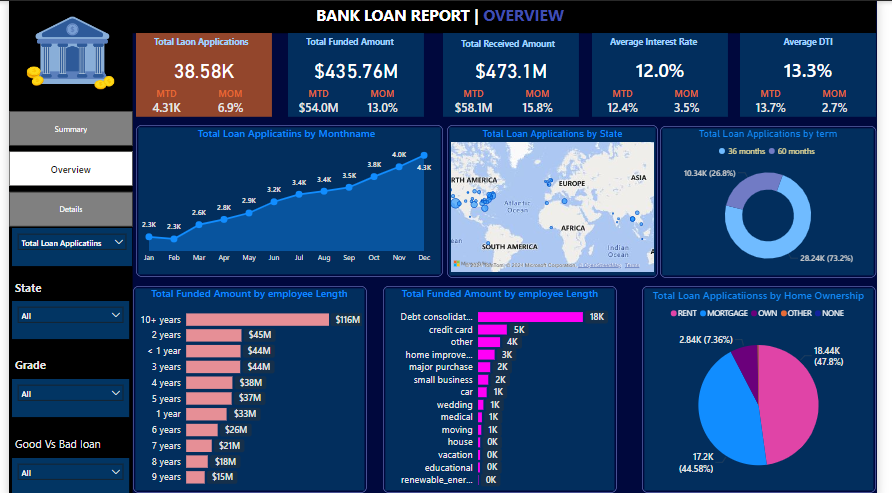

The page's visual inventory and layout, read from the dashboard file:
{"tool":"powerbi","page":{"name":"Overview","canvas":[1480,850],"ordinal":1},"visuals":[{"type":"textbox","box":[0.2,0,1479.8,54.6],"z":0},{"type":"textbox","box":[0,54.6,211,795.4],"z":1000},{"type":"textbox","box":[518.9,0,443.8,54.6],"z":2000},{"type":"group","id":"g1","title":"Group 1","box":[216.8,54.6,232.1,143.4],"z":3000},{"type":"shape","box":[216.8,54.6,232.1,143.4],"z":3000,"group":"g1"},{"type":"shape","box":[476.2,54.6,232.1,143.4],"z":3000,"group":"g2"},{"type":"shape","box":[740.8,54.6,232.1,143.4],"z":3000,"group":"g3"},{"type":"shape","box":[995.1,54.6,232.1,143.4],"z":3000,"group":"g4"},{"type":"shape","box":[1247.7,54.6,232.1,143.4],"z":3000,"group":"g5"},{"type":"group","id":"g2","title":"Group 1","box":[476.2,54.6,232.1,143.4],"z":4000},{"type":"card","fields":{"Values":["All Measures.Total Loan Applications"]},"box":[216.8,87,232.1,59.7],"z":4000,"group":"g1"},{"type":"card","fields":{"Values":["All Measures.Toatl Funded Amount"]},"box":[476.2,87,232.1,59.7],"z":4000,"group":"g2"},{"type":"card","fields":{"Values":["All Measures.Total Recived Amount"]},"box":[740.8,87,232.1,59.7],"z":4000,"group":"g3"},{"type":"card","fields":{"Values":["All Measures.Average Interest Rate"]},"box":[995.1,87,232.1,59.7],"z":4000,"group":"g4"},{"type":"card","fields":{"Values":["All Measures.Average DTI Rate"]},"box":[1247.7,87,232.1,59.7],"z":4000,"group":"g5"},{"type":"textbox","box":[242.4,54.6,180.9,34.1],"z":5000,"group":"g1"},{"type":"textbox","box":[501.8,54.6,180.9,34.1],"z":5000,"group":"g2"},{"type":"group","id":"g3","title":"Group 1","box":[740.8,54.6,232.1,143.4],"z":5000},{"type":"textbox","box":[766.4,54.6,180.9,34.1],"z":5000,"group":"g3"},{"type":"textbox","box":[1020.7,54.6,180.9,34.1],"z":5000,"group":"g4"},{"type":"textbox","box":[1273.3,54.6,180.9,34.1],"z":5000,"group":"g5"},{"type":"group","id":"g4","title":"Group 1","box":[995.1,54.6,232.1,143.4],"z":6000},{"type":"card","title":"MTD","fields":{"Values":["All Measures.MTD Loan Applications"]},"box":[223.6,146.8,90.5,51.2],"z":6000,"group":"g1"},{"type":"card","title":"MTD","fields":{"Values":["All Measures.MTD Funded Amount"]},"box":[483,146.8,90.5,51.2],"z":6000,"group":"g2"},{"type":"card","title":"MTD","fields":{"Values":["All Measures.MTD Received Amount"]},"box":[747.6,146.8,90.5,51.2],"z":6000,"group":"g3"},{"type":"card","title":"MTD","fields":{"Values":["All Measures.MTD Interest Rate"]},"box":[1001.9,146.8,90.5,51.2],"z":6000,"group":"g4"},{"type":"card","title":"MTD","fields":{"Values":["All Measures.MTD DTI Rate"]},"box":[1254.5,146.8,90.5,51.2],"z":6000,"group":"g5"},{"type":"group","id":"g5","title":"Group 1","box":[1247.7,54.6,232.1,143.4],"z":7000},{"type":"card","title":"MOM","fields":{"Values":["All Measures.MOM Loan Applications"]},"box":[332.9,146.8,90.5,51.2],"z":7000,"group":"g1"},{"type":"card","title":"MOM","fields":{"Values":["All Measures.MOM Funded Amount"]},"box":[592.3,146.8,90.5,51.2],"z":7000,"group":"g2"},{"type":"card","title":"MOM","fields":{"Values":["All Measures.MOM Received Amount"]},"box":[856.9,146.8,90.5,51.2],"z":7000,"group":"g3"},{"type":"card","title":"MOM","fields":{"Values":["All Measures.MOM Averate Interest Rate"]},"box":[1111.2,146.8,90.5,51.2],"z":7000,"group":"g4"},{"type":"card","title":"MOM","fields":{"Values":["All Measures.MOM DTI Rate"]},"box":[1363.8,146.8,90.5,51.2],"z":7000,"group":"g5"},{"type":"slicer","fields":{"Values":["bankloandb loan_data.address_state"]},"box":[5.1,512,199.7,64.9],"z":8000},{"type":"textbox","box":[5.1,471.1,107.5,41],"z":9000},{"type":"slicer","fields":{"Values":["bankloandb loan_data.grade"]},"box":[5.1,645.2,199.7,64.9],"z":10000},{"type":"textbox","box":[5.1,602.5,107.5,42.7],"z":11000},{"type":"slicer","fields":{"Values":["bankloandb loan_data.Goad Loan Vs Bad Loan"]},"box":[5.1,780,199.7,64.9],"z":12000},{"type":"textbox","box":[5.1,737.3,199.7,42.7],"z":13000},{"type":"shape","box":[216.8,211.6,524,259.4],"z":14000},{"type":"areaChart","fields":{"Y":["All Measures.Total Loan Applicatiins"],"Category":["Date Table.Monthname"]},"box":[216.8,213.4,513.8,242.4],"z":15000},{"type":"slicer","fields":{"Values":["Select Measure.Select Measure"]},"box":[5.1,387.4,204.8,64.9],"z":16000},{"type":"textbox","box":[5.1,334.5,157,52.9],"z":17000},{"type":"shape","box":[747.6,211.6,360.1,261.1],"z":18000},{"type":"map","title":"Total Loan Applications by State","fields":{"Size":["All Measures.Total Loan Applicatiins"],"Category":["bankloandb loan_data.address_state"]},"box":[749.3,216.8,356.7,250.9],"z":19000},{"type":"shape","box":[638.4,486.4,399.4,353.3],"z":20000},{"type":"shape","box":[1111.1,213.4,368.7,259.4],"z":21000},{"type":"donutChart","title":"Total Loan Applications by term","fields":{"Y":["All Measures.Total Loan Applicatiins"],"Category":["bankloandb loan_data.term"]},"box":[1112.9,216.8,365.3,250.9],"z":22000},{"type":"shape","box":[211.6,486.4,399.4,353.3],"z":23000},{"type":"shape","box":[1080.4,486.4,399.4,353.3],"z":24000},{"type":"barChart","title":"Total Funded Amount by employee Length","fields":{"Category":["bankloandb loan_data.emp_length"],"Y":["All Measures.Total Funded Amount"]},"box":[213.4,486.4,394.3,353.3],"z":25000},{"type":"barChart","title":"Total Funded Amount by employee Length","fields":{"Y":["All Measures.Total Loan Applicatiins"],"Category":["bankloandb loan_data.purpose"]},"box":[648.6,486.4,378.9,353.3],"z":26000},{"type":"pieChart","title":"Total Loan Applicatiionss by Home Ownership","fields":{"Category":["bankloandb loan_data.home_ownership"],"Y":["All Measures.Total Loan Applicatiins"]},"box":[1085.5,489.9,387.4,348.2],"z":27000},{"type":"pageNavigator","box":[0,187.8,211.6,199.7],"z":28000},{"type":"image","box":[32,22,150,150.2],"z":29000}]}

Visuals, with their boxes on the page's 1480x850 design canvas (x1, y1, x2, y2). These are canvas units, not pixel positions in the 892x493 screenshot, which may show the page scaled, cropped or inside an application window:
textbox: BBox(0, 0, 1480, 55)
textbox: BBox(0, 55, 211, 850)
textbox: BBox(519, 0, 963, 55)
"Group 1" group: BBox(217, 55, 449, 198)
shape: BBox(217, 55, 449, 198)
shape: BBox(476, 55, 708, 198)
shape: BBox(741, 55, 973, 198)
shape: BBox(995, 55, 1227, 198)
shape: BBox(1248, 55, 1480, 198)
"Group 1" group: BBox(476, 55, 708, 198)
card - All Measures.Total Loan Applications: BBox(217, 87, 449, 147)
card - All Measures.Toatl Funded Amount: BBox(476, 87, 708, 147)
card - All Measures.Total Recived Amount: BBox(741, 87, 973, 147)
card - All Measures.Average Interest Rate: BBox(995, 87, 1227, 147)
card - All Measures.Average DTI Rate: BBox(1248, 87, 1480, 147)
textbox: BBox(242, 55, 423, 89)
textbox: BBox(502, 55, 683, 89)
"Group 1" group: BBox(741, 55, 973, 198)
textbox: BBox(766, 55, 947, 89)
textbox: BBox(1021, 55, 1202, 89)
textbox: BBox(1273, 55, 1454, 89)
"Group 1" group: BBox(995, 55, 1227, 198)
"MTD" card: BBox(224, 147, 314, 198)
"MTD" card: BBox(483, 147, 574, 198)
"MTD" card: BBox(748, 147, 838, 198)
"MTD" card: BBox(1002, 147, 1092, 198)
"MTD" card: BBox(1254, 147, 1345, 198)
"Group 1" group: BBox(1248, 55, 1480, 198)
"MOM" card: BBox(333, 147, 423, 198)
"MOM" card: BBox(592, 147, 683, 198)
"MOM" card: BBox(857, 147, 947, 198)
"MOM" card: BBox(1111, 147, 1202, 198)
"MOM" card: BBox(1364, 147, 1454, 198)
slicer - bankloandb loan_data.address_state: BBox(5, 512, 205, 577)
textbox: BBox(5, 471, 113, 512)
slicer - bankloandb loan_data.grade: BBox(5, 645, 205, 710)
textbox: BBox(5, 602, 113, 645)
slicer - bankloandb loan_data.Goad Loan Vs Bad Loan: BBox(5, 780, 205, 845)
textbox: BBox(5, 737, 205, 780)
shape: BBox(217, 212, 741, 471)
areaChart - All Measures.Total Loan Applicatiins x Date Table.Monthname: BBox(217, 213, 731, 456)
slicer - Select Measure.Select Measure: BBox(5, 387, 210, 452)
textbox: BBox(5, 334, 162, 387)
shape: BBox(748, 212, 1108, 473)
"Total Loan Applications by State" map: BBox(749, 217, 1106, 468)
shape: BBox(638, 486, 1038, 840)
shape: BBox(1111, 213, 1480, 473)
"Total Loan Applications by term" donutChart: BBox(1113, 217, 1478, 468)
shape: BBox(212, 486, 611, 840)
shape: BBox(1080, 486, 1480, 840)
"Total Funded Amount by employee Length" barChart: BBox(213, 486, 608, 840)
"Total Funded Amount by employee Length" barChart: BBox(649, 486, 1028, 840)
"Total Loan Applicatiionss by Home Ownership" pieChart: BBox(1086, 490, 1473, 838)
pageNavigator: BBox(0, 188, 212, 388)
image: BBox(32, 22, 182, 172)
